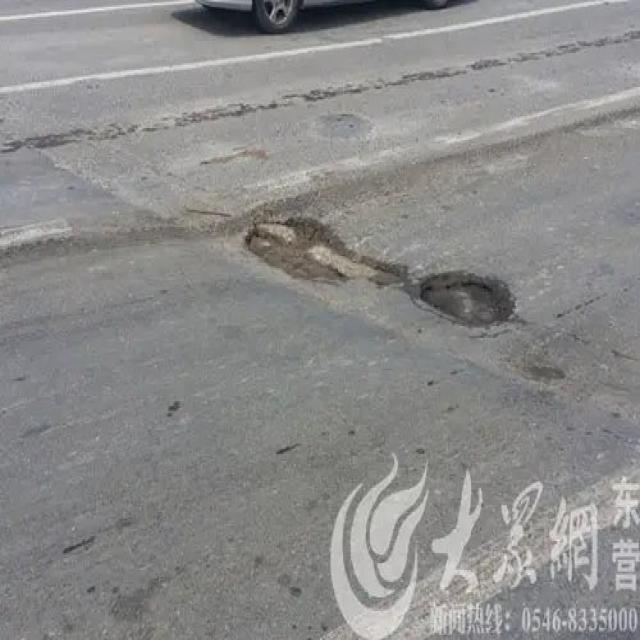Pothole: (239, 213, 407, 292), (417, 274, 506, 328), (307, 115, 378, 144)
